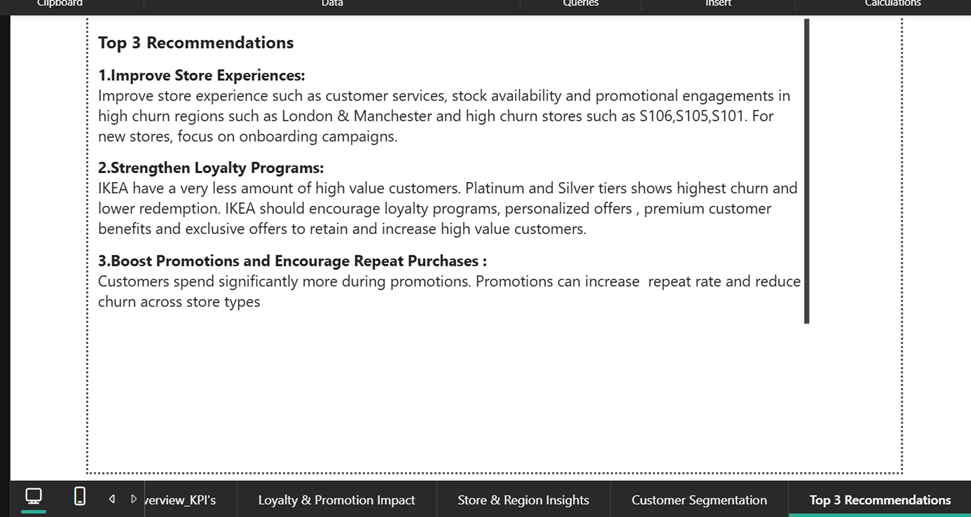

The dashboard page shown, as its layout file describes it:
{"tool":"powerbi","page":{"name":"Top 3 Recommendations","canvas":[1280,720],"ordinal":9},"visuals":[{"type":"textbox","box":[9.9,0,1131.4,506.9],"z":0}]}

Visuals, with their boxes on the page's 1280x720 design canvas (x1, y1, x2, y2). These are canvas units, not pixel positions in the 971x517 screenshot, which may show the page scaled, cropped or inside an application window:
textbox: crop(10, 0, 1141, 507)
